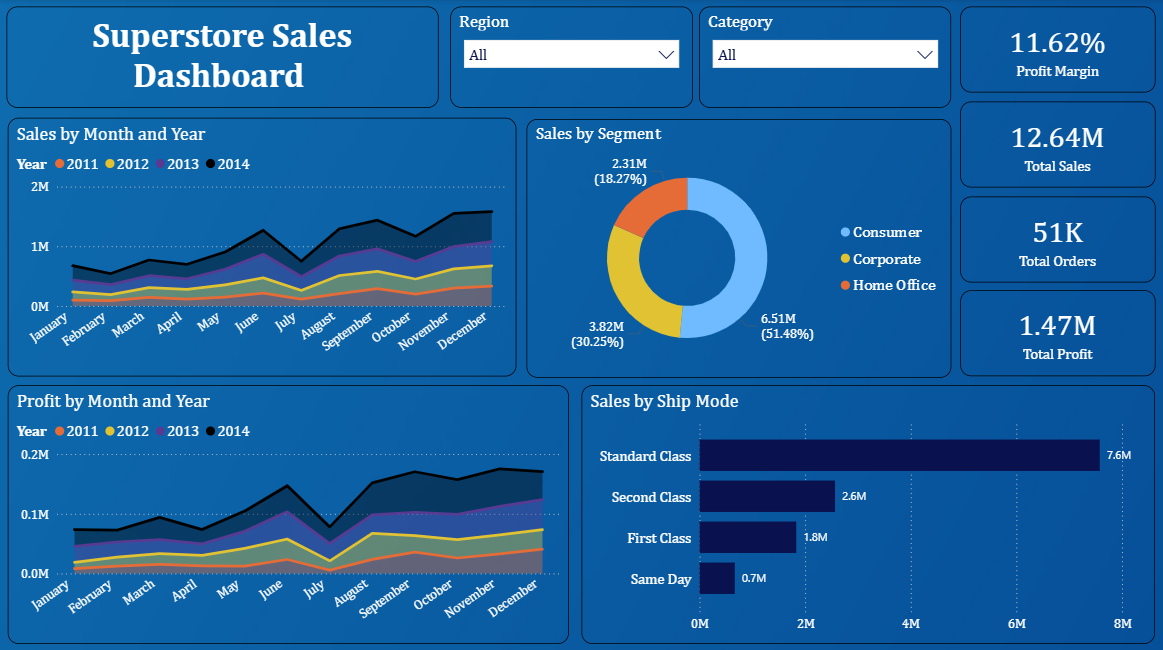

The dashboard page shown, as its layout file describes it:
{"tool":"powerbi","page":{"name":"Overview","canvas":[1280,720],"ordinal":0},"visuals":[{"type":"card","fields":{"Values":["SuperStoreOrders.Total Sales"]},"box":[1055.7,112.4,214.3,94.3],"z":0},{"type":"textbox","box":[8.6,8.6,474.3,111.4],"z":1000},{"type":"card","fields":{"Values":["SuperStoreOrders.Total Profit"]},"box":[1055.7,320,214.3,94.3],"z":2000},{"type":"card","fields":{"Values":["SuperStoreOrders.Total Orders"]},"box":[1055.7,216.2,214.3,94.3],"z":3000},{"type":"donutChart","title":"Sales by Segment","fields":{"Category":["SuperStoreOrders.segment"],"Y":["SuperStoreOrders.Total Sales"]},"box":[579.1,131.7,466.6,284],"z":4000},{"type":"card","fields":{"Values":["SuperStoreOrders.Profit Margin"]},"box":[1055.7,8.6,214.3,94.3],"z":5000},{"type":"slicer","title":"Region","fields":{"Values":["SuperStoreOrders.region"]},"box":[495.4,8.2,266.2,111.1],"z":6000},{"type":"slicer","title":"Category","fields":{"Values":["SuperStoreOrders.category"]},"box":[768.6,8.6,277.1,111.4],"z":7000},{"type":"stackedAreaChart","title":"Sales by Month and Year","fields":{"Category":["SuperStoreOrders.Order Date.Variation.Date Hierarchy.Month","SuperStoreOrders.Order Date.Variation.Date Hierarchy.Day"],"Y":["SuperStoreOrders.Total Sales"],"Series":["SuperStoreOrders.Order Date.Variation.Date Hierarchy.Year"]},"box":[9.6,130.4,558.5,284],"z":8000},{"type":"stackedAreaChart","title":"Profit by Month and Year","fields":{"Category":["SuperStoreOrders.Order Date.Variation.Date Hierarchy.Month","SuperStoreOrders.Order Date.Variation.Date Hierarchy.Day"],"Y":["SuperStoreOrders.Total Profit"],"Series":["SuperStoreOrders.Order Date.Variation.Date Hierarchy.Year"]},"box":[9.6,424,616.1,284],"z":9000},{"type":"clusteredBarChart","title":"Sales by Ship Mode","fields":{"Y":["SuperStoreOrders.Total Sales"],"Category":["SuperStoreOrders.Ship Mode"]},"box":[639.5,424,629.8,284],"z":10000}]}

Visuals, with their boxes in screenshot pixels (x1, y1, x2, y2), scaled from the page's 1280x720 canvas onto the 1163x650 screenshot:
card - SuperStoreOrders.Total Sales: crop(959, 101, 1154, 187)
textbox: crop(8, 8, 439, 108)
card - SuperStoreOrders.Total Profit: crop(959, 289, 1154, 374)
card - SuperStoreOrders.Total Orders: crop(959, 195, 1154, 280)
"Sales by Segment" donutChart: crop(526, 119, 950, 375)
card - SuperStoreOrders.Profit Margin: crop(959, 8, 1154, 93)
"Region" slicer: crop(450, 7, 692, 108)
"Category" slicer: crop(698, 8, 950, 108)
"Sales by Month and Year" stackedAreaChart: crop(9, 118, 516, 374)
"Profit by Month and Year" stackedAreaChart: crop(9, 383, 569, 639)
"Sales by Ship Mode" clusteredBarChart: crop(581, 383, 1153, 639)
